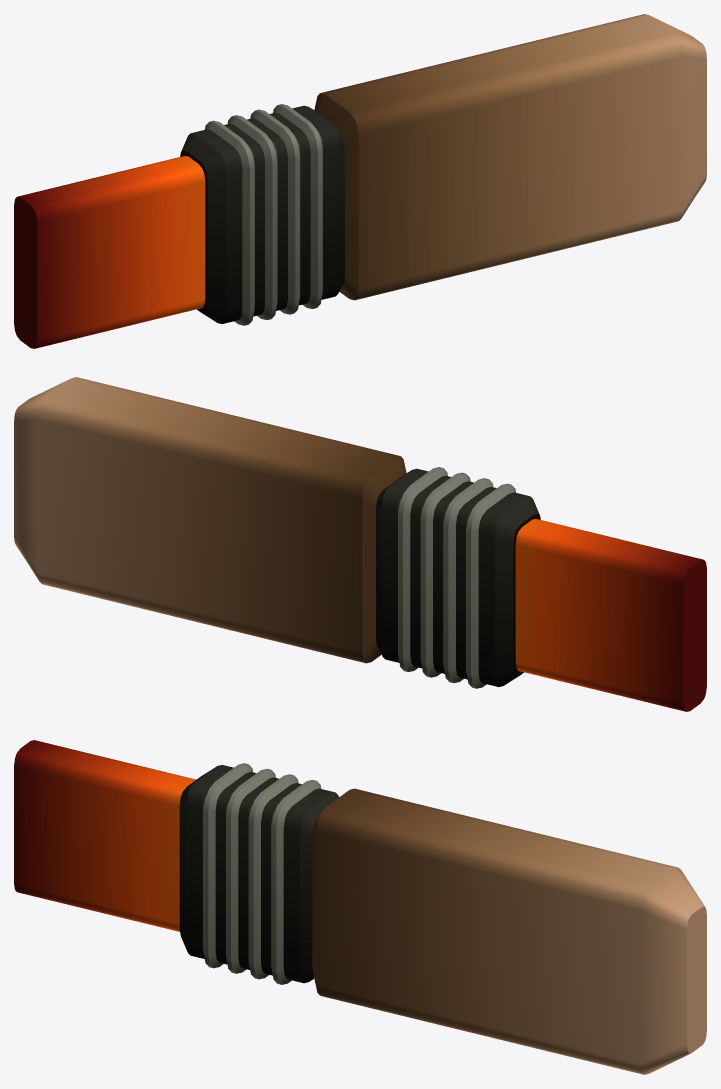
File: Bullet_FlareGun.fbx
3 views of the same model, one above another, from view 1: azimuth 30°, elevation 25°; view 2: azimuth 150°, elevation 25°; view 3: azimuth 330°, elevation 25° (orthographic).
Visible parts, largest first — view 1: Bullet_FlareGun; view 2: Bullet_FlareGun; view 3: Bullet_FlareGun.
Boxes of the visible parts, x1,y1,x2,y2 form: Bullet_FlareGun: (14,14,706,348); Bullet_FlareGun: (14,377,706,711); Bullet_FlareGun: (14,740,706,1074).
Size of the model in its own units: 10.36 by 2.76 by 1.23.
